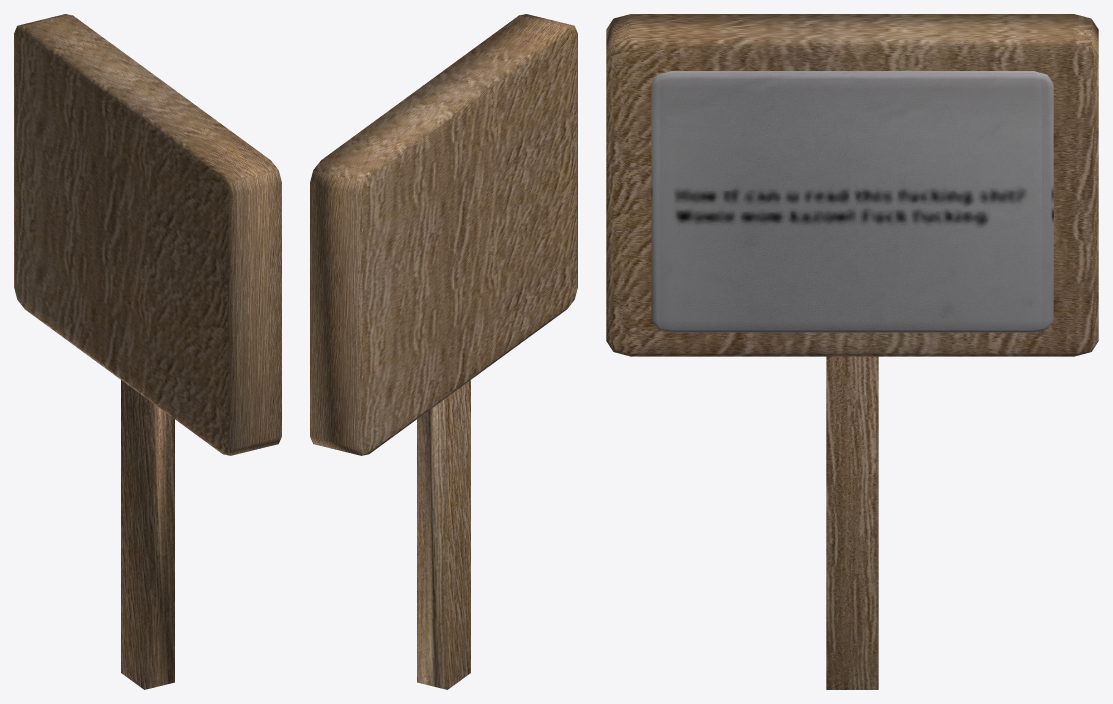
The model's file is Sign2.obj.
The picture shows the model from 3 angles, left to right: view 1: azimuth 30°, elevation 25°; view 2: azimuth 150°, elevation 25°; view 3: azimuth 270°, elevation 25°; orthographic projection. The views are drawn at different scales.
Visible parts, largest first — view 1: signy; view 2: signy; view 3: signy.
Boxes of the visible parts, left/top/right/bottom form: signy: left=14, top=14, right=281, bottom=689; signy: left=310, top=14, right=577, bottom=689; signy: left=606, top=14, right=1098, bottom=689.
Bounding box in the file's own units: 0.1625 × 1.45 × 0.9891.
